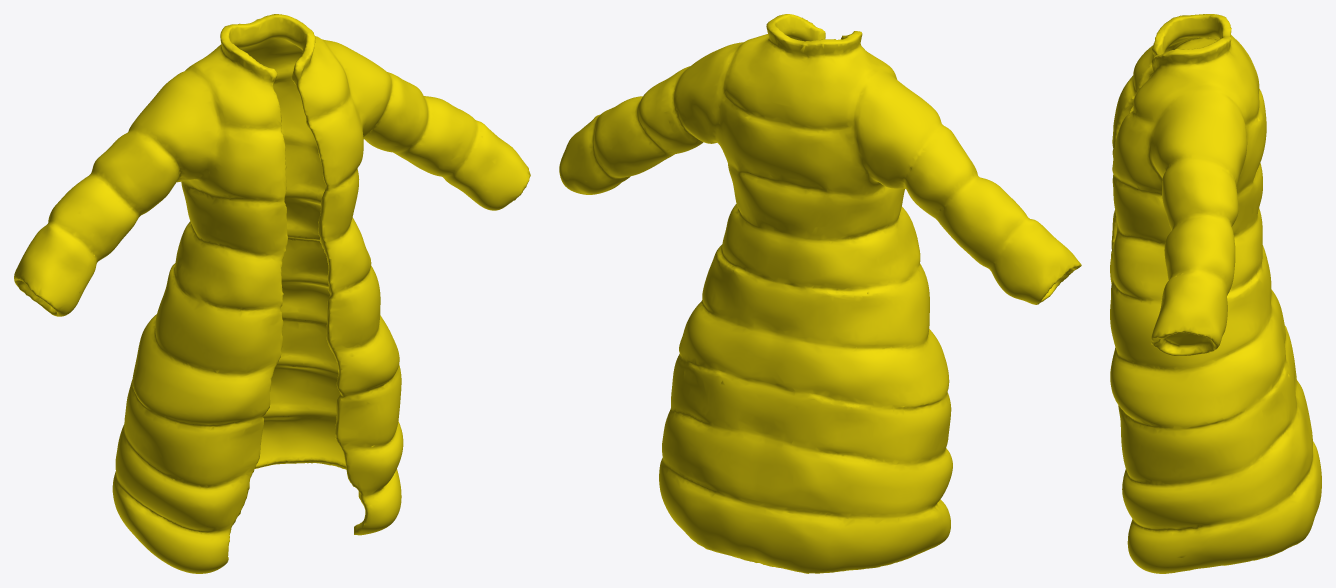
File: puffy_jacket.glb
The picture shows the model from 3 angles, left to right: view 1: azimuth 30°, elevation 25°; view 2: azimuth 150°, elevation 25°; view 3: azimuth 270°, elevation 25°; orthographic projection. The views are drawn at different scales.
Visible parts, largest first — view 1: Object_2; view 2: Object_2; view 3: Object_2.
Part boxes in pixels (bbox=[...]): Object_2: bbox=[14, 14, 530, 573]; Object_2: bbox=[559, 14, 1081, 573]; Object_2: bbox=[1110, 14, 1321, 573].
Bounding box in the file's own units: 14.38 × 13.98 × 5.36.
